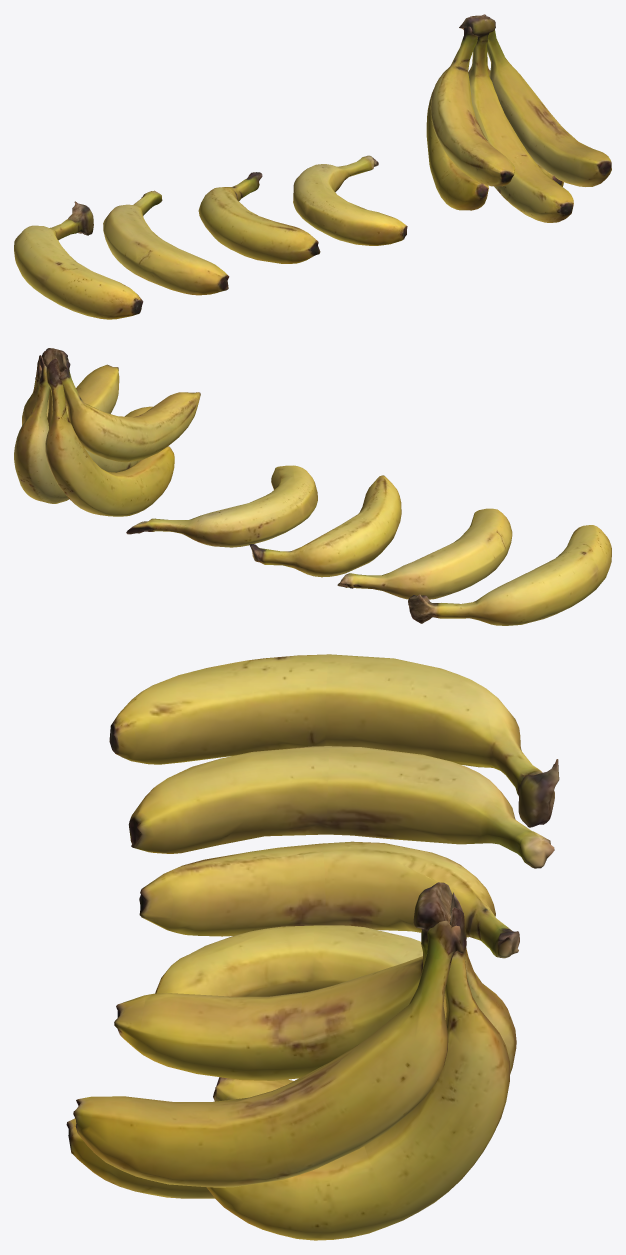
Rendered from bananas.glb.
The picture shows the model from 3 angles, top to bottom: view 1: azimuth 30°, elevation 25°; view 2: azimuth 150°, elevation 25°; view 3: azimuth 270°, elevation 25°; orthographic projection. The views are drawn at different scales.
Visible parts, largest first — view 1: bananas_bunch; view 2: bananas_bunch; view 3: bananas_bunch.
Boxes of the visible parts, bbox=[...] form: bananas_bunch: bbox=[14, 14, 611, 319]; bananas_bunch: bbox=[14, 348, 611, 625]; bananas_bunch: bbox=[66, 654, 559, 1240].
Bounding box in the file's own units: 0.5998 × 0.1787 × 0.244.
Materials: 1 (1 with a texture image).
